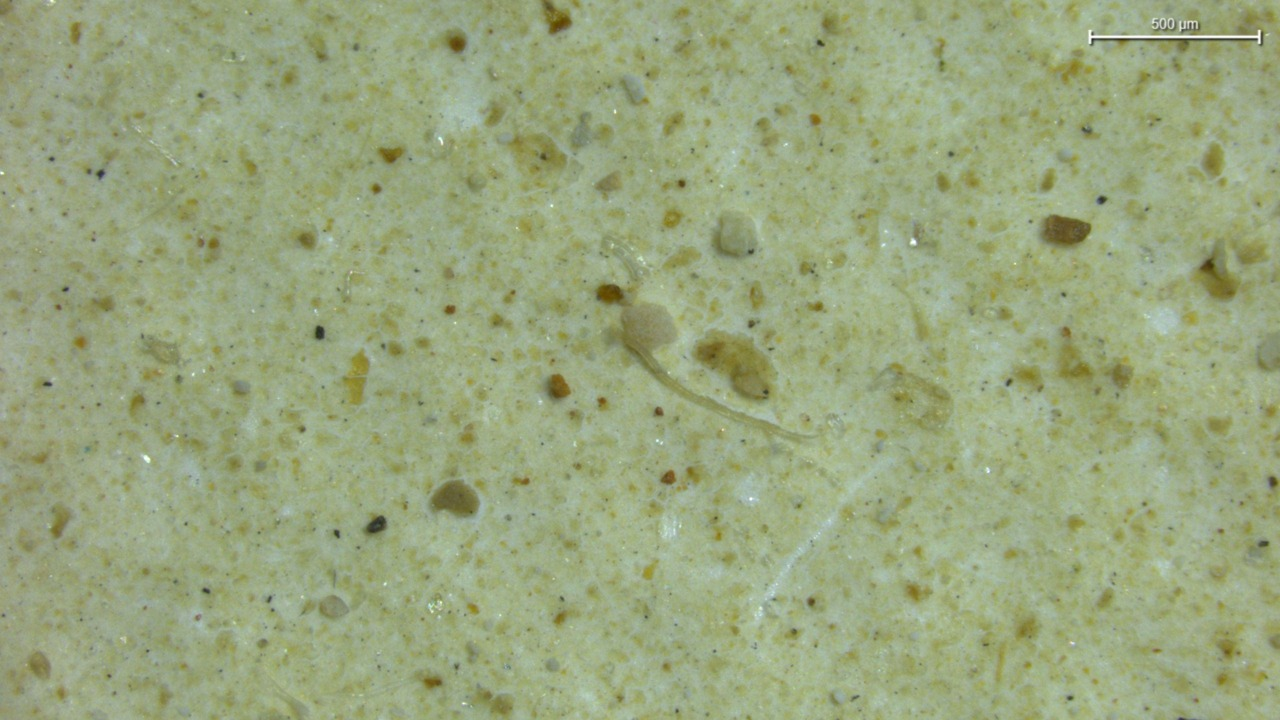microplastic_fragment: (622, 303, 677, 350), (718, 211, 757, 256), (621, 74, 645, 103)
